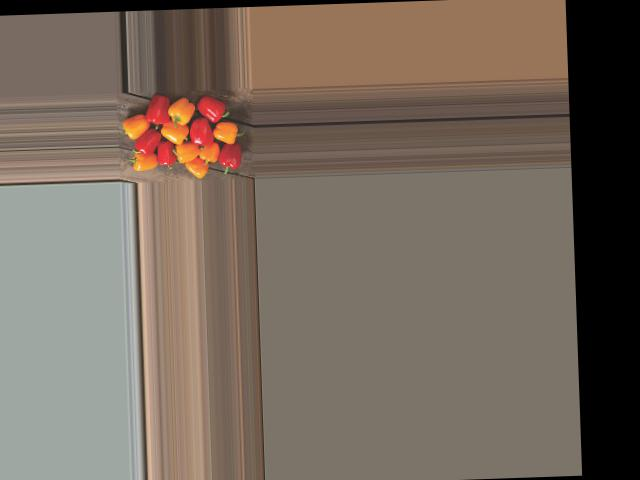bell_pepper: (121, 108, 157, 140)
